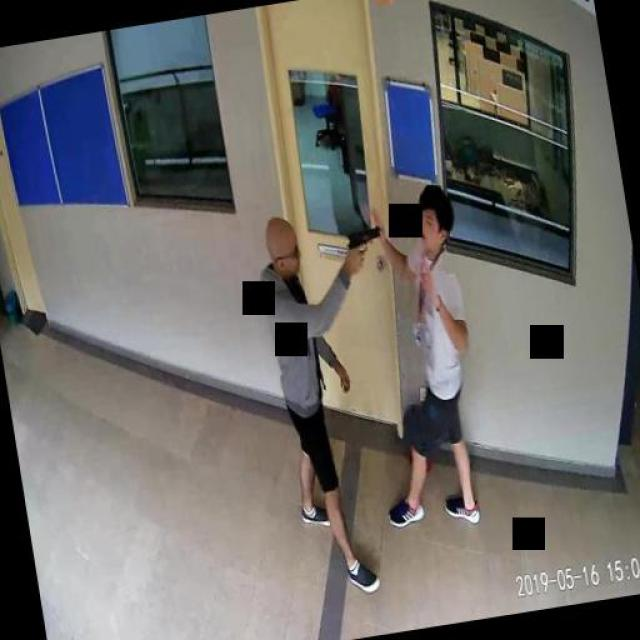gun: (343, 224, 382, 266)
